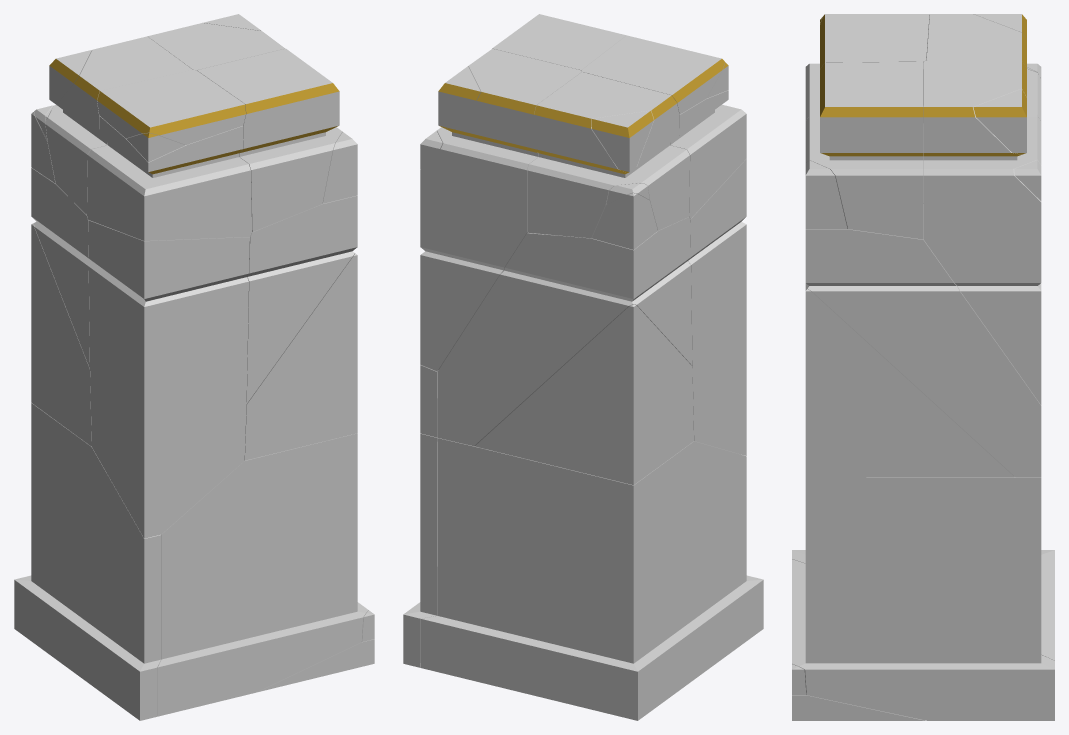
File: BreakAble_Piller_Fractured.fbx
3 renders of one model, left to right at view 1: azimuth 30°, elevation 25°; view 2: azimuth 150°, elevation 25°; view 3: azimuth 270°, elevation 25°, orthographic. The views are drawn at different scales.
Parts seen in each view (by area): view 1: Piller_Parts, Cube.075_cell.016, Cube.075_cell.012, Cube.075_cell.011, Cube.075_cell.007, Cube.075_cell.003, Cube.075_cell.002, Cube.075_cell.001, Cube.075_cell.014, Cube.075_cell.017, Cube.075_cell.015, Cube.075_cell.010 (+5 smaller); view 2: Cube.075_cell.012, Cube.075_cell.015, Cube.075_cell.010, Cube.075_cell.014, Cube.075_cell.001, Cube.075_cell.016, Cube.075_cell.017, Cube.075_cell.011, Piller_Parts, Cube.075_cell.007, Cube.075_cell.013, Cube.075_cell.006 (+2 smaller); view 3: Piller_Parts, Cube.075_cell.010, Cube.075_cell.002, Cube.075_cell.003, Cube.075_cell.007, Cube.075_cell.017, Cube.075_cell.001, Cube.075_cell.021, Cube.075_cell.019, Cube.075_cell.005, Cube.075_cell.012, Cube.075_cell.011 (+2 smaller).
Boxes of the visible parts, x1,y1,x2,y2 form: Piller_Parts: (157,433,368,716); Cube.075_cell.016: (88,220,249,538); Cube.075_cell.012: (14,403,161,720); Cube.075_cell.011: (87,116,251,240); Cube.075_cell.007: (197,48,342,231); Cube.075_cell.003: (244,253,357,460); Cube.075_cell.002: (246,195,357,403); Cube.075_cell.001: (45,36,192,214); Cube.075_cell.014: (31,223,91,446); Cube.075_cell.017: (97,70,245,144); Cube.075_cell.015: (31,167,91,368); Cube.075_cell.010: (147,23,284,70); Cube.075_cell.012: (420,438,763,720); Cube.075_cell.015: (437,217,692,446); Cube.075_cell.010: (420,48,581,371); Cube.075_cell.014: (475,304,693,485); Cube.075_cell.001: (527,72,689,238); Cube.075_cell.016: (688,159,746,455); Cube.075_cell.017: (581,35,724,114); Cube.075_cell.011: (670,90,746,218); Piller_Parts: (403,433,437,667); Cube.075_cell.007: (492,14,626,70); Cube.075_cell.013: (592,193,657,249); Cube.075_cell.006: (591,110,653,173); Piller_Parts: (792,477,1054,720); Cube.075_cell.010: (923,60,1041,404); Cube.075_cell.002: (805,204,1041,477); Cube.075_cell.003: (805,289,1014,477); Cube.075_cell.007: (805,61,923,239); Cube.075_cell.017: (820,14,929,69); Cube.075_cell.001: (923,14,1041,120); Cube.075_cell.021: (973,89,1026,154); Cube.075_cell.019: (805,160,847,228); Cube.075_cell.005: (792,695,925,720); Cube.075_cell.012: (792,550,1054,660); Cube.075_cell.011: (805,63,923,203).
Size of the model in its own units: 144 by 338 by 134.
